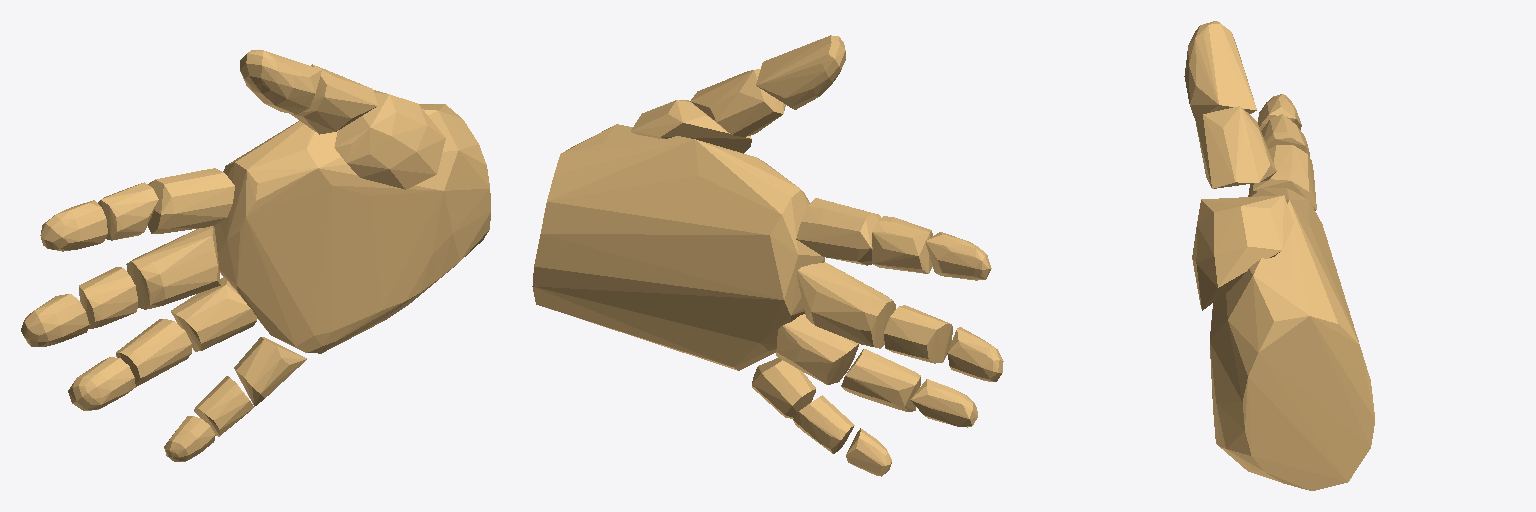
--- What the picture shows (computed from the rendered views, not written in the file) ---
3 views of the same robot in one strip: view 1: azimuth 30°, elevation 25°; view 2: azimuth 150°, elevation 25°; view 3: azimuth 270°, elevation 25° (orthographic).
Robot: rhand_mano — 63 links, 62 joints (48 revolute, 3 prismatic, 11 fixed); root link world; default pose: all joints at 0 but 2 set to mid-range because 0 is outside their limits (right_ring2_x = -0.345, right_ring3_x = -0.23).
Links seen in each view (by area): view 1: right_wrist_rz, right_thumb1_z, right_middle1_z, right_index1_z, right_thumb3_z, right_ring1_z, right_thumb2_z, right_ring2_z, right_pinky1_z, right_middle2_z, right_middle3_z, right_index3_z (+4 smaller); view 2: right_wrist_rz, right_middle1_z, right_thumb3_z, right_index1_z, right_thumb2_z, right_ring1_z, right_ring2_z, right_thumb1_z, right_middle2_z, right_index2_z, right_pinky1_z, right_index3_z (+4 smaller); view 3: right_wrist_rz, right_thumb1_z, right_thumb2_z, right_thumb3_z, right_index1_z, right_index2_z, right_index3_z.
Boxes of the visible links, bbox=[...] form: right_wrist_rz: bbox=[214, 104, 490, 353]; right_thumb1_z: bbox=[334, 90, 445, 189]; right_middle1_z: bbox=[126, 226, 220, 309]; right_index1_z: bbox=[148, 168, 234, 233]; right_thumb3_z: bbox=[240, 50, 321, 114]; right_ring1_z: bbox=[171, 277, 256, 351]; right_thumb2_z: bbox=[289, 64, 377, 134]; right_ring2_z: bbox=[116, 319, 191, 386]; right_pinky1_z: bbox=[234, 337, 306, 406]; right_middle2_z: bbox=[79, 267, 137, 328]; right_middle3_z: bbox=[21, 294, 89, 346]; right_index3_z: bbox=[40, 200, 107, 251]; right_wrist_rz: bbox=[532, 124, 824, 370]; right_middle1_z: bbox=[797, 262, 895, 348]; right_thumb3_z: bbox=[756, 35, 845, 109]; right_index1_z: bbox=[796, 198, 880, 265]; right_thumb2_z: bbox=[690, 69, 785, 136]; right_ring1_z: bbox=[776, 314, 858, 384]; right_ring2_z: bbox=[841, 349, 920, 411]; right_thumb1_z: bbox=[631, 100, 751, 153]; right_middle2_z: bbox=[884, 305, 952, 363]; right_index2_z: bbox=[872, 216, 932, 273]; right_pinky1_z: bbox=[752, 358, 815, 418]; right_index3_z: bbox=[925, 232, 991, 280]; right_wrist_rz: bbox=[1210, 188, 1374, 490]; right_thumb1_z: bbox=[1192, 195, 1293, 310]; right_thumb2_z: bbox=[1196, 106, 1276, 188]; right_thumb3_z: bbox=[1184, 21, 1256, 120]; right_index1_z: bbox=[1248, 145, 1316, 210]; right_index2_z: bbox=[1261, 114, 1309, 156]; right_index3_z: bbox=[1258, 94, 1301, 130].
Bounding box of the posed robot: 0.193 × 0.0613 × 0.1677 m (x, y, z).
16 mesh visuals loaded from 16 distinct referenced files (16 binary STL).

The robot description file, URDF, robot "rhand_mano":
<?xml version="1.0" ?>
<robot name="rhand_mano">
   <material name="hand_color">
      <color rgba="0.91796875 0.765 0.5234 1"/>
   </material>
   <link name="world"/>
   <joint name="world_to_base" type="fixed">
      <origin xyz="0 0 0"/>
      <axis xyz="0 0 0"/>
      <parent link="world"/>
      <child link="sliderBar"/>
   </joint>
   <link name="sliderBar">
      <inertial>
         <mass value="0"/>
         <inertia ixx="1" ixy="0" ixz="0" iyy="1" iyz="0" izz="1"/>
      </inertial>
   </link>
   <link name="right_wrist">
      <inertial>
         <origin rpy="0.0001382761617732207 0.0002243870504664796 0.0002987261918042579" xyz="-0.03428792862784619 -0.001983360201199018 4.859569785971209e-05"/>
  	 <mass value="0.0"/>
         <inertia ixx="0" ixy="0" ixz="0" iyy="0" iyz="0" izz="0"/>
      </inertial>
   </link>
   <link name="right_wrist_y">
      <inertial>
         <origin rpy="0 0 0" xyz="0 0 0"/>
         <mass value="0"/>
         <inertia ixx="0" ixy="0" ixz="0" iyy="0" iyz="0" izz="0"/>
      </inertial>
   </link>
   <link name="right_wrist_z">
      <inertial>
         <origin rpy="0 0 0" xyz="0 0 0"/>
         <mass value="0"/>
         <inertia ixx="0" ixy="0" ixz="0" iyy="0" iyz="0" izz="0"/>
      </inertial>
   </link>
   <link name="right_wrist_rx">
      <inertial>
         <origin rpy="0 0 0" xyz="0 0 0"/>
         <mass value="0"/>
         <inertia ixx="0" ixy="0" ixz="0" iyy="0" iyz="0" izz="0"/>
      </inertial>
   </link>
   <link name="right_wrist_ry">
      <inertial>
         <origin rpy="0 0 0" xyz="0 0 0"/>
         <mass value="0"/>
         <inertia ixx="0" ixy="0" ixz="0" iyy="0" iyz="0" izz="0"/>
      </inertial>
   </link>
   <link name="right_wrist_rz">
      <inertial>
         <origin rpy="0 0 0" xyz="0 0 0"/>
         <mass value="0"/>
         <inertia ixx="0" ixy="0" ixz="0" iyy="0" iyz="0" izz="0"/>
      </inertial>
      <visual>
         <origin rpy="0 0 0" xyz="-0.0956699401140213 -0.006383428350090981 -0.006186304613947868"/>
         <geometry>
            <mesh filename="./meshes/right_wrist.stl" scale="1 1 1"/>
         </geometry>
         <material name="hand_color"/>
      </visual>
      <collision>
         <origin rpy="0.006844884579535027 -0.1419415805103208 0.09621061312114154" xyz="-0.03922105953097343 -0.003785171080380678 -0.0006308349594473838"/>
         <material name="">
            <contact name="finger"/>
         </material>
         <geometry>
            <box size="0.0878 0.027 0.07000000000000001"/>
         </geometry>
      </collision>
      <collision>
         <origin rpy="0.541405353260723 -0.6746053143028581 -0.1940404583427586" xyz="-0.0144538301974535 -0.009313400834798813 0.01548770722001791"/>
         <material name="">
            <contact name="finger"/>
         </material>
         <geometry>
            <capsule length="0.0235689027607441" radius="0.015"/>
         </geometry>
      </collision>
   </link>
   <joint name="right_wrist_0x" type="prismatic">
      <origin xyz="0 0 0"/>
      <axis xyz="1 0 0"/>
      <parent link="sliderBar"/>
      <child link="right_wrist"/>
      <dynamics damping="10.0" friction="0.0001"/>
      <limit effort="100" velocity="200" lower="-0.8" upper="0.8"/>
   </joint>
   <joint name="right_wrist_0y" type="prismatic">
      <origin xyz="0 0 0"/>
      <axis xyz="0 1 0"/>
      <parent link="right_wrist"/>
      <child link="right_wrist_y"/>
      <dynamics damping="10.0" friction="0.0001"/>
      <limit effort="100" velocity="200" lower="-0.8" upper="0.8"/>
   </joint>
   <joint name="right_wrist_0z" type="prismatic">
      <origin xyz="0 0 0"/>
      <axis xyz="0 0 1"/>
      <parent link="right_wrist_y"/>
      <child link="right_wrist_z"/>
      <dynamics damping="10.0" friction="0.0001"/>
      <limit effort="100" velocity="200" lower="-0.8" upper="0.8"/>
   </joint>
   <joint name="right_wrist_0rx" type="revolute">
      <origin xyz="0 0 0"/>
      <axis xyz="1 0 0"/>
      <parent link="right_wrist_z"/>
      <child link="right_wrist_rx"/>
      <dynamics damping="1.0" friction="0.0001"/>
      <limit effort="1000" velocity="200" lower="-6.28" upper="6.28"/>
   </joint>
   <joint name="right_wrist_0ry" type="revolute">
      <origin xyz="0 0 0"/>
      <axis xyz="0 1 0"/>
      <parent link="right_wrist_rx"/>
      <child link="right_wrist_ry"/>
      <dynamics damping="1.0" friction="0.0001"/>
      <limit effort="1000" velocity="200" lower="-6.28" upper="6.28"/>
   </joint>
   <joint name="right_wrist_0rz" type="revolute">
      <origin xyz="0 0 0"/>
      <axis xyz="0 0 1"/>
      <parent link="right_wrist_ry"/>
      <child link="right_wrist_rz"/>
      <dynamics damping="1.0" friction="0.0001"/>
      <limit effort="1000" velocity="200" lower="-6.28" upper="6.28"/>
   </joint>
   <link name="right_index_fixed">
      <inertial>
         <origin rpy="0 0 0" xyz="0 0 0"/>
         <mass value="0"/>
         <inertia ixx="0" ixy="0" ixz="0" iyy="0" iyz="0" izz="0"/>
      </inertial>
   </link>
   <joint name="right_index1_fixed" type="fixed">
      <origin xyz="0 0 0"/>
      <axis xyz="0 0 0"/>
      <parent link="right_wrist_rz"/>
      <child link="right_index_fixed"/>
   </joint>
   <link name="right_index1">
      <inertial>
         <origin rpy="4.40063488240054e-07 8.009090468789044e-07 8.33438419100694e-07" xyz="-0.01841049225853478 0.003372971502468173 0.001485845999724966"/>
         <mass value="0.008858013426270924"/>
         <inertia ixx="4.441778858945276e-07" ixy="2.33849326666686e-08" ixz="-3.18170695566891e-08" iyy="7.994890796984332e-07" iyz="1.643036507892791e-10" izz="8.307439886266915e-07"/>
      </inertial>
   </link>
   <link name="right_index1_y">
      <inertial>
         <origin rpy="0 0 0" xyz="0 0 0"/>
         <mass value="0"/>
         <inertia ixx="0" ixy="0" ixz="0" iyy="0" iyz="0" izz="0"/>
      </inertial>
   </link>
   <link name="right_index1_z">
      <inertial>
         <origin rpy="0 0 0" xyz="0 0 0"/>
         <mass value="0"/>
         <inertia ixx="0" ixy="0" ixz="0" iyy="0" iyz="0" izz="0"/>
      </inertial>
      <visual>
         <origin rpy="0 0 0" xyz="-0.007572680711746216 -0.0011830716393888 -0.0268722977489233"/>
         <geometry>
            <mesh filename="./meshes/right_index1.stl" scale="1 1 1"/>
         </geometry>
         <material name="hand_color"/>
      </visual>
      <collision>
         <origin rpy="-1.065673404150012 -1.431506141451089 0.9477048864768798" xyz="-0.0118830343708396 0.001457922742702067 0.0008061919361352921"/>
         <material name="">
            <contact name="finger"/>
         </material>
         <geometry>
            <capsule length="0.02399849852919578" radius="0.008999999999999999"/>
         </geometry>
      </collision>
   </link>
   <joint name="right_index1_x" type="revolute">
      <origin xyz="-0.08809725940227509 -0.005200356710702181 0.02068599313497543"/>
      <axis xyz="1 0 0"/>
      <parent link="right_index_fixed"/>
      <child link="right_index1"/>
      <dynamics damping="1.0" friction="0.0001"/>
      <limit effort="1000" velocity="200" lower="-0.14" upper="0.46"/>
   </joint>
   <joint name="right_index1_y" type="revolute">
      <origin xyz="0 0 0"/>
      <axis xyz="0 1 0"/>
      <parent link="right_index1"/>
      <child link="right_index1_y"/>
      <dynamics damping="1.0" friction="0.0001"/>
      <limit effort="1000" velocity="200" lower="-0.61" upper="0.32"/>
   </joint>
   <joint name="right_index1_z" type="revolute">
      <origin xyz="0 0 0"/>
      <axis xyz="0 0 1"/>
      <parent link="right_index1_y"/>
      <child link="right_index1_z"/>
      <dynamics damping="1.0" friction="0.0001"/>
      <limit effort="1000" velocity="200" lower="-0.38" upper="1.25"/>
   </joint>
   <link name="right_index2">
      <inertial>
         <origin rpy="1.510899987947861e-07 2.052806130641707e-07 2.260681513546246e-07" xyz="-0.0112130878785661 -0.0001671420303115973 2.323359852935206e-05"/>
         <mass value="0.004299645893867725"/>
         <inertia ixx="1.542203558958309e-07" ixy="-8.907325254730415e-09" ixz="-1.088989905119781e-08" iyy="2.236098862551748e-07" iyz="3.828831971148394e-09" izz="2.046085210625759e-07"/>
      </inertial>
   </link>
   <link name="right_index2_y">
      <inertial>
         <origin rpy="0 0 0" xyz="0 0 0"/>
         <mass value="0"/>
         <inertia ixx="0" ixy="0" ixz="0" iyy="0" iyz="0" izz="0"/>
      </inertial>
   </link>
   <link name="right_index2_z">
      <inertial>
         <origin rpy="0 0 0" xyz="0 0 0"/>
         <mass value="0"/>
         <inertia ixx="0" ixy="0" ixz="0" iyy="0" iyz="0" izz="0"/>
      </inertial>
      <visual>
         <origin rpy="0 0 0" xyz="0.02510622143745422 -0.005192427430301905 -0.02908936329185963"/>
         <geometry>
            <mesh filename="./meshes/right_index2.stl" scale="1 1 1"/>
         </geometry>
         <material name="hand_color"/>
      </visual>
      <collision>
         <origin rpy="1.658461261310608 -1.512034214827133 -1.5997737489094" xyz="-0.007334427908062935 -0.0004298262647353113 -3.777751408051699e-05"/>
         <material name="">
            <contact name="finger"/>
         </material>
         <geometry>
            <capsule length="0.01469421602785587" radius="0.0075"/>
         </geometry>
      </collision>
   </link>
   <joint name="right_index2_x" type="revolute">
      <origin xyz="-0.03267890214920044 0.004009355790913105 0.002217065542936325"/>
      <axis xyz="1 0 0"/>
      <parent link="right_index1_z"/>
      <child link="right_index2"/>
      <dynamics damping="1.0" friction="0.0001"/>
      <limit effort="1000" velocity="200" lower="-0.43" upper="0.58"/>
   </joint>
   <joint name="right_index2_y" type="revolute">
      <origin xyz="0 0 0"/>
      <axis xyz="0 1 0"/>
      <parent link="right_index2"/>
      <child link="right_index2_y"/>
      <dynamics damping="1.0" friction="0.0001"/>
      <limit effort="1000" velocity="200" lower="-0.26" upper="0.21"/>
   </joint>
   <joint name="right_index2_z" type="revolute">
      <origin xyz="0 0 0"/>
      <axis xyz="0 0 1"/>
      <parent link="right_index2_y"/>
      <child link="right_index2_z"/>
      <dynamics damping="1.0" friction="0.0001"/>
      <limit effort="1000" velocity="200" lower="-0.14" upper="1.3"/>
   </joint>
   <link name="right_index3">
      <inertial>
         <origin rpy="7.390473353246301e-08 1.425425783253728e-07 1.58585936150065e-07" xyz="-0.01113279506587959 -0.0005018619283154242 -0.0001430962173195431"/>
         <mass value="0.003095705087766235"/>
         <inertia ixx="7.464031657849734e-08" ixy="1.575984661878876e-09" ixz="-7.061194366437685e-09" iyy="1.572361421002517e-07" iyz="-4.29298608964218e-09" izz="1.431567893291516e-07"/>
      </inertial>
   </link>
   <link name="right_index3_y">
      <inertial>
         <origin rpy="0 0 0" xyz="0 0 0"/>
         <mass value="0"/>
         <inertia ixx="0" ixy="0" ixz="0" iyy="0" iyz="0" izz="0"/>
      </inertial>
   </link>
   <link name="right_index3_z">
      <inertial>
         <origin rpy="0 0 0" xyz="0 0 0"/>
         <mass value="0"/>
         <inertia ixx="0" ixy="0" ixz="0" iyy="0" iyz="0" izz="0"/>
      </inertial>
      <visual>
         <origin rpy="0 0 0" xyz="0.04726213216781616 -0.003894004039466381 -0.02897524461150169"/>
         <geometry>
            <mesh filename="./meshes/right_index3.stl" scale="1 1 1"/>
         </geometry>
         <material name="hand_color"/>
      </visual>
      <collision>
         <origin rpy="1.840193960081717 -1.497003187126881 -1.76835496522512" xyz="-0.009001294411288496 -0.0006414405166041191 -0.0001771079735335346"/>
         <material name="">
            <contact name="finger"/>
         </material>
         <geometry>
            <capsule length="0.0180517161787265" radius="0.0075"/>
         </geometry>
      </collision>
   </link>
   <joint name="right_index3_x" type="revolute">
      <origin xyz="-0.02215591073036194 -0.001298423390835524 -0.000114118680357933"/>
      <axis xyz="1 0 0"/>
      <parent link="right_index2_z"/>
      <child link="right_index3"/>
      <dynamics damping="1.0" friction="0.0001"/>
      <limit effort="1000" velocity="200" lower="-0.39" upper="0.43"/>
   </joint>
   <joint name="right_index3_y" type="revolute">
      <origin xyz="0 0 0"/>
      <axis xyz="0 1 0"/>
      <parent link="right_index3"/>
      <child link="right_index3_y"/>
      <dynamics damping="1.0" friction="0.0001"/>
      <limit effort="1000" velocity="200" lower="-0.17" upper="0.35"/>
   </joint>
   <joint name="right_index3_z" type="revolute">
      <origin xyz="0 0 0"/>
      <axis xyz="0 0 1"/>
      <parent link="right_index3_y"/>
      <child link="right_index3_z"/>
      <dynamics damping="1.0" friction="0.0001"/>
      <limit effort="1000" velocity="200" lower="-0.25" upper="1.15"/>
   </joint>
   <link name="right_index_tip">
      <inertial>
         <origin rpy="0 0 0" xyz="0 0 0"/>
         <mass value="0"/>
         <inertia ixx="0" ixy="0" ixz="0" iyy="0" iyz="0" izz="0"/>
      </inertial>
   </link>
   <joint name="right_index_tip" type="fixed">
      <origin xyz="-0.025482177734375 0.001184116583317518 -0.0005013830959796906"/>
      <axis xyz="0 0 0"/>
      <parent link="right_index3_z"/>
      <child link="right_index_tip"/>
   </joint>
   <link name="right_middle_fixed">
      <inertial>
         <origin rpy="0 0 0" xyz="0 0 0"/>
         <mass value="0"/>
         <inertia ixx="0" ixy="0" ixz="0" iyy="0" iyz="0" izz="0"/>
      </inertial>
   </link>
   <joint name="right_middle1_fixed" type="fixed">
      <origin xyz="0 0 0"/>
      <axis xyz="0 0 0"/>
      <parent link="right_wrist_rz"/>
      <child link="right_middle_fixed"/>
   </joint>
   <link name="right_middle1">
      <inertial>
         <origin rpy="5.347692323135398e-07 1.157950269961845e-06 1.20312842324104e-06" xyz="-0.01404093428370029 0.002369654630678607 -0.002975534943670234"/>
         <mass value="0.01041232271134444"/>
         <inertia ixx="5.691079252468613e-07" ixy="5.156376283079277e-10" ixz="-1.424316691619549e-07" iyy="1.201105062575942e-06" iyz="-9.47773545413763e-09" izz="1.125634937693622e-06"/>
      </inertial>
   </link>
   <link name="right_middle1_y">
      <inertial>
         <origin rpy="0 0 0" xyz="0 0 0"/>
         <mass value="0"/>
         <inertia ixx="0" ixy="0" ixz="0" iyy="0" iyz="0" izz="0"/>
      </inertial>
   </link>
   <link name="right_middle1_z">
      <inertial>
         <origin rpy="0 0 0" xyz="0 0 0"/>
         <mass value="0"/>
         <inertia ixx="0" ixy="0" ixz="0" iyy="0" iyz="0" izz="0"/>
      </inertial>
      <visual>
         <origin rpy="0 0 0" xyz="-0.001009486615657806 -0.00490446574985981 -0.002828764962032437"/>
         <geometry>
            <mesh filename="./meshes/right_middle1.stl" scale="1 1 1"/>
         </geometry>
         <material name="hand_color"/>
      </visual>
      <collision>
         <origin rpy="-2.820406600974239 -1.383922349862802 2.755488033918114" xyz="-0.0111696794629097 0.0006667306879535317 -0.002003961941227317"/>
         <material name="">
            <contact name="finger"/>
         </material>
         <geometry>
            <capsule length="0.02273518180847168" radius="0.008999999999999999"/>
         </geometry>
      </collision>
   </link>
   <joint name="right_middle1_x" type="revolute">
      <origin xyz="-0.09466045349836349 -0.001478962600231171 -0.003357539651915431"/>
      <axis xyz="1 0 0"/>
      <parent link="right_middle_fixed"/>
      <child link="right_middle1"/>
      <dynamics damping="1.0" friction="0.0001"/>
      <limit effort="1000" velocity="200" lower="-0.5" upper="0.42"/>
   </joint>
   <joint name="right_middle1_y" type="revolute">
      <origin xyz="0 0 0"/>
      <axis xyz="0 1 0"/>
      <parent link="right_middle1"/>
      <child link="right_middle1_y"/>
      <dynamics damping="1.0" friction="0.0001"/>
      <limit effort="1000" velocity="200" lower="-0.61" upper="0.21"/>
   </joint>
   <joint name="right_middle1_z" type="revolute">
      <origin xyz="0 0 0"/>
      <axis xyz="0 0 1"/>
      <parent link="right_middle1_y"/>
      <child link="right_middle1_z"/>
      <dynamics damping="1.0" friction="0.0001"/>
      <limit effort="1000" velocity="200" lower="-0.49" upper="1.44"/>
   </joint>
   <link name="right_middle2">
      <inertial>
         <origin rpy="1.438040233926373e-07 1.926044512116666e-07 2.071828806124508e-07" xyz="-0.01308363736227514 -0.0002096533445448924 -0.002215308889885086"/>
         <mass value="0.004134916987366405"/>
         <inertia ixx="1.495346703662589e-07" ixy="-1.473680795106371e-08" ixz="-8.546669747643379e-09" iyy="2.028406094796937e-07" iyz="-5.092232749750542e-09" izz="1.912160753708021e-07"/>
      </inertial>
   </link>
   <link name="right_middle2_y">
      <inertial>
         <origin rpy="0 0 0" xyz="0 0 0"/>
         <mass value="0"/>
         <inertia ixx="0" ixy="0" ixz="0" iyy="0" iyz="0" izz="0"/>
      </inertial>
   </link>
   <link name="right_middle2_z">
      <inertial>
         <origin rpy="0 0 0" xyz="0 0 0"/>
         <mass value="0"/>
         <inertia ixx="0" ixy="0" ixz="0" iyy="0" iyz="0" izz="0"/>
      </inertial>
      <visual>
         <origin rpy="0 0 0" xyz="0.03017318062484264 -0.006765794008970261 0.002765744691714644"/>
         <geometry>
            <mesh filename="./meshes/right_middle2.stl" scale="1 1 1"/>
         </geometry>
         <material name="hand_color"/>
      </visual>
      <collision>
         <origin rpy="2.834223256819131 -1.392042172086062 -2.77494923392455" xyz="-0.007762070745229721 -0.0004243212752044201 -0.00133674219250679"/>
         <material name="">
            <contact name="finger"/>
         </material>
         <geometry>
            <capsule length="0.01577550947666168" radius="0.0075"/>
         </geometry>
      </collision>
   </link>
   <joint name="right_middle2_x" type="revolute">
      <origin xyz="-0.03118266724050045 0.001861328259110451 -0.005594509653747082"/>
      <axis xyz="1 0 0"/>
      <parent link="right_middle1_z"/>
      <child link="right_middle2"/>
      <dynamics damping="1.0" friction="0.0001"/>
      <limit effort="1000" velocity="200" lower="-0.47" upper="0.02"/>
   </joint>
   <joint name="right_middle2_y" type="revolute">
      <origin xyz="0 0 0"/>
      <axis xyz="0 1 0"/>
      <parent link="right_middle2"/>
      <child link="right_middle2_y"/>
      <dynamics damping="1.0" friction="0.0001"/>
      <limit effort="1000" velocity="200" lower="-0.29" upper="0.05"/>
   </joint>
   <joint name="right_middle2_z" type="revolute">
      <origin xyz="0 0 0"/>
      <axis xyz="0 0 1"/>
      <parent link="right_middle2_y"/>
      <child link="right_middle2_z"/>
      <dynamics damping="1.0" friction="0.0001"/>
      <limit effort="1000" velocity="200" lower="-0.45" upper="1.33"/>
   </joint>
   <link name="right_middle3">
      <inertial>
         <origin rpy="7.547806408530193e-08 1.27401553612779e-07 1.389691917127175e-07" xyz="-0.01341204096573574 -0.0001321703788337673 -0.002081687520704607"/>
         <mass value="0.003016592369827251"/>
         <inertia ixx="7.966680664410979e-08" ixy="8.157506841560311e-09" ixz="-1.255883708825473e-08" iyy="1.371344583955573e-07" iyz="-1.105336821754682e-09" izz="1.250475443711313e-07"/>
      </inertial>
   </link>
   <link name="right_middle3_y">
      <inertial>
         <origin rpy="0 0 0" xyz="0 0 0"/>
         <mass value="0"/>
         <inertia ixx="0" ixy="0" ixz="0" iyy="0" iyz="0" izz="0"/>
      </inertial>
   </link>
   <link name="right_middle3_z">
      <inertial>
         <origin rpy="0 0 0" xyz="0 0 0"/>
         <mass value="0"/>
         <inertia ixx="0" ixy="0" ixz="0" iyy="0" iyz="0" izz="0"/>
      </inertial>
      <visual>
         <origin rpy="0 0 0" xyz="0.0530778169631958 -0.005513689480721951 0.006710258312523365"/>
         <geometry>
            <mesh filename="./meshes/right_middle3.stl" scale="1 1 1"/>
         </geometry>
         <material name="hand_color"/>
      </visual>
      <collision>
         <origin rpy="-2.939644762229884 -1.407919909220686 2.904061101940813" xyz="-0.009145713945442134 0.0003014557215035537 -0.001472391958602528"/>
         <material name="">
            <contact name="finger"/>
         </material>
         <geometry>
            <capsule length="0.01853676316983516" radius="0.0075"/>
         </geometry>
      </collision>
   </link>
   <joint name="right_middle3_x" type="revolute">
      <origin xyz="-0.02290463633835316 -0.00125210452824831 -0.003944513387978077"/>
      <axis xyz="1 0 0"/>
      <parent link="right_middle2_z"/>
      <child link="right_middle3"/>
      <dynamics damping="1.0" friction="0.0001"/>
      <limit effort="1000" velocity="200" lower="-0.38" upper="0"/>
   </joint>
   <joint name="right_middle3_y" type="revolute">
      <origin xyz="0 0 0"/>
      <axis xyz="0 1 0"/>
      <parent link="right_middle3"/>
      <child link="right_middle3_y"/>
      <dynamics damping="1.0" friction="0.0001"/>
      <limit effort="1000" velocity="200" lower="-0.14" upper="0.22"/>
   </joint>
   <joint name="right_middle3_z" type="revolute">
      <origin xyz="0 0 0"/>
      <axis xyz="0 0 1"/>
      <parent link="right_middle3_y"/>
      <child link="right_middle3_z"/>
      <dynamics damping="1.0" friction="0.0001"/>
      <limit effort="1000" velocity="200" lower="-0.35" upper="0.88"/>
   </joint>
   <link name="right_middle_tip">
      <inertial>
         <origin rpy="0 0 0" xyz="0 0 0"/>
         <mass value="0"/>
         <inertia ixx="0" ixy="0" ixz="0" iyy="0" iyz="0" izz="0"/>
      </inertial>
   </link>
   <joint name="right_middle_tip" type="fixed">
      <origin xyz="-0.0256921648979187 0.003846850246191025 -0.004136247560381889"/>
      <axis xyz="0 0 0"/>
      <parent link="right_middle3_z"/>
      <child link="right_middle_tip"/>
   </joint>
   <link name="right_pinky_fixed">
      <inertial>
         <origin rpy="0 0 0" xyz="0 0 0"/>
         <mass value="0"/>
         <inertia ixx="0" ixy="0" ixz="0" iyy="0" iyz="0" izz="0"/>
      </inertial>
   </link>
   <joint name="right_pinky1_fixed" type="fixed">
      <origin xyz="0 0 0"/>
      <axis xyz="0 0 0"/>
      <parent link="right_wrist_rz"/>
      <child link="right_pinky_fixed"/>
   </joint>
   <link name="right_pinky1">
      <inertial>
         <origin rpy="1.48827225313433e-07 2.133354782353497e-07 2.245894759057712e-07" xyz="-0.007298340700857824 0.001209671288326417 -0.007077038184132051"/>
         <mass value="0.00429689371005088"/>
         <inertia ixx="1.681797734422877e-07" ixy="-8.006221661156753e-10" ixz="-2.956527084550618e-08" iyy="2.244614664283673e-07" iyz="-1.741624467465072e-09" izz="1.941109395838989e-07"/>
      </inertial>
   </link>
   <link name="right_pinky1_y">
      <inertial>
         <origin rpy="0 0 0" xyz="0 0 0"/>
         <mass value="0"/>
         <inertia ixx="0" ixy="0" ixz="0" iyy="0" iyz="0" izz="0"/>
      </inertial>
   </link>
   <link name="right_pinky1_z">
      <inertial>
         <origin rpy="0 0 0" xyz="0 0 0"/>
         <mass value="0"/>
         <inertia ixx="0" ixy="0" ixz="0" iyy="0" iyz="0" izz="0"/>
      </inertial>
      <visual>
         <origin rpy="0 0 0" xyz="-0.02688296139240265 0.003556899726390839 0.03702303022146225"/>
         <geometry>
            <mesh filename="./meshes/right_pinky1.stl" scale="1 1 1"/>
         </geometry>
         <material name="hand_color"/>
      </visual>
      <collision>
         <origin rpy="-3.13664619965706 -0.9372186196136476 3.131821312881724" xyz="-0.004880589433014393 1.773456642695237e-05 -0.003585279919207096"/>
         <material name="">
            <contact name="finger"/>
         </material>
         <geometry>
            <capsule length="0.01211192792654038" radius="0.008999999999999999"/>
         </geometry>
      </collision>
   </link>
   <joint name="right_pinky1_x" type="revolute">
      <origin xyz="-0.06878697872161865 -0.009940328076481819 -0.04320933669805527"/>
      <axis xyz="1 0 0"/>
      <parent link="right_pinky_fixed"/>
      <child link="right_pinky1"/>
      <dynamics damping="1.0" friction="0.0001"/>
      <limit effort="1000" velocity="200" lower="-1.31" upper="0.42"/>
   </joint>
   <joint name="right_pinky1_y" type="revolute">
      <origin xyz="0 0 0"/>
      <axis xyz="0 1 0"/>
      <parent link="right_pinky1"/>
      <child link="right_pinky1_y"/>
      <dynamics damping="1.0" friction="0.0001"/>
      <limit effort="1000" velocity="200" lower="-0.63" upper="0.62"/>
   </joint>
   <joint name="right_pinky1_z" type="revolute">
      <origin xyz="0 0 0"/>
      <axis xyz="0 0 1"/>
      <parent link="right_pinky1_y"/>
      <child link="right_pinky1_z"/>
      <dynamics damping="1.0" friction="0.0001"/>
      <limit effort="1000" velocity="200" lower="-0.06" upper="1.65"/>
   </joint>
   <link name="right_pinky2">
      <inertial>
         <origin rpy="7.14610295422411e-08 1.037878021848514e-07 1.10336443686092e-07" xyz="-0.007860466243023591 0.001082534402904419 -0.006184610881384799"/>
         <mass value="0.002781613790564921"/>
         <inertia ixx="8.10232289354825e-08" ixy="-1.827691227174668e-09" ixz="-1.49144378232804e-08" iyy="1.084056993496749e-07" iyz="-4.39051464243735e-09" izz="9.615634712802696e-08"/>
      </inertial>
   </link>
   <link name="right_pinky2_y">
      <inertial>
         <origin rpy="0 0 0" xyz="0 0 0"/>
         <mass value="0"/>
         <inertia ixx="0" ixy="0" ixz="0" iyy="0" iyz="0" izz="0"/>
      </inertial>
   </link>
   <link name="right_pinky2_z">
      <inertial>
         <origin rpy="0 0 0" xyz="0 0 0"/>
         <mass value="0"/>
         <inertia ixx="0" ixy="0" ixz="0" iyy="0" iyz="0" izz="0"/>
      </inertial>
      <visual>
         <origin rpy="0 0 0" xyz="-0.009868551045656204 0.003495074575766921 0.04952181130647659"/>
         <geometry>
            <mesh filename="./meshes/right_pinky2.stl" scale="1 1 1"/>
         </geometry>
         <material name="hand_color"/>
      </visual>
      <collision>
         <origin rpy="3.074796837859433 -0.9925842493150498 -3.018349175930415" xyz="-0.004793046973645687 -0.0002087832690449432 -0.003121043555438519"/>
         <material name="">
            <contact name="finger"/>
         </material>
         <geometry>
            <capsule length="0.01144688606262207" radius="0.0075"/>
         </geometry>
      </collision>
   </link>
   <joint name="right_pinky2_x" type="revolute">
      <origin xyz="-0.01701441034674644 6.182515062391758e-05 -0.01249878108501434"/>
      <axis xyz="1 0 0"/>
      <parent link="right_pinky1_z"/>
      <child link="right_pinky2"/>
      <dynamics damping="1.0" friction="0.0001"/>
      <limit effort="1000" velocity="200" lower="-1.11" upper="0.98"/>
   </joint>
   <joint name="right_pinky2_y" type="revolute">
      <origin xyz="0 0 0"/>
      <axis xyz="0 1 0"/>
      <parent link="right_pinky2"/>
      <child link="right_pinky2_y"/>
      <dynamics damping="1.0" friction="0.0001"/>
      <limit effort="1000" velocity="200" lower="-0.42" upper="0.61"/>
   </joint>
   <joint name="right_pinky2_z" type="revolute">
      <origin xyz="0 0 0"/>
      <axis xyz="0 0 1"/>
      <parent link="right_pinky2_y"/>
      <child link="right_pinky2_z"/>
      <dynamics damping="1.0" friction="0.0001"/>
      <limit effort="1000" velocity="200" lower="-0.37" upper="1.29"/>
   </joint>
   <link name="right_pinky3">
      <inertial>
         <origin rpy="2.618440686979082e-08 4.120993065930541e-08 4.44370725354283e-08" xyz="-0.008810483659855921 -0.0009578335233779781 -0.005027785409461583"/>
         <mass value="0.001566057855040921"/>
         <inertia ixx="2.960281534014635e-08" ixy="2.583004582544436e-11" ixz="-6.313325860791448e-09" iyy="4.43738299343363e-08" iyz="-4.851731346720774e-10" izz="3.785476479004187e-08"/>
      </inertial>
   </link>
   <link name="right_pinky3_y">
      <inertial>
         <origin rpy="0 0 0" xyz="0 0 0"/>
         <mass value="0"/>
         <inertia ixx="0" ixy="0" ixz="0" iyy="0" iyz="0" izz="0"/>
      </inertial>
   </link>
   <link name="right_pinky3_z">
      <inertial>
         <origin rpy="0 0 0" xyz="0 0 0"/>
         <mass value="0"/>
         <inertia ixx="0" ixy="0" ixz="0" iyy="0" iyz="0" izz="0"/>
      </inertial>
      <visual>
         <origin rpy="0 0 0" xyz="0.00599835067987442 0.004186230711638927 0.05985371395945549"/>
         <geometry>
            <mesh filename="./meshes/right_pinky3.stl" scale="1 1 1"/>
         </geometry>
         <material name="hand_color"/>
      </visual>
      <collision>
         <origin rpy="3.001814974863856 -1.023483359517321 -2.893594779193235" xyz="-0.005771451704418715 -0.0004900273787599806 -0.00348290132177909"/>
         <material name="">
            <contact name="finger"/>
         </material>
         <geometry>
            <capsule length="0.01351745289995458" radius="0.0065"/>
         </geometry>
      </collision>
   </link>
   <joint name="right_pinky3_x" type="revolute">
      <origin xyz="-0.01586690172553062 -0.0006911561358720064 -0.0103319026529789"/>
      <axis xyz="1 0 0"/>
      <parent link="right_pinky2_z"/>
      <child link="right_pinky3"/>
      <dynamics damping="1.0" friction="0.0001"/>
      <limit effort="1000" velocity="200" lower="-1.16" upper="0.46"/>
   </joint>
   <joint name="right_pinky3_y" type="revolute">
      <origin xyz="0 0 0"/>
      <axis xyz="0 1 0"/>
      <parent link="right_pinky3"/>
      <child link="right_pinky3_y"/>
      <dynamics damping="1.0" friction="0.0001"/>
      <limit effort="1000" velocity="200" lower="-0.25" upper="0.51"/>
   </joint>
   <joint name="right_pinky3_z" type="revolute">
      <origin xyz="0 0 0"/>
      <axis xyz="0 0 1"/>
      <parent link="right_pinky3_y"/>
      <child link="right_pinky3_z"/>
      <dynamics damping="1.0" friction="0.0001"/>
      <limit effort="1000" velocity="200" lower="-1.06" upper="0.46"/>
   </joint>
   <link name="right_pinky_tip">
      <inertial>
         <origin rpy="0 0 0" xyz="0 0 0"/>
         <mass value="0"/>
         <inertia ixx="0" ixy="0" ixz="0" iyy="0" iyz="0" izz="0"/>
      </inertial>
   </link>
   <joint name="right_pinky_tip" type="fixed">
      <origin xyz="-0.01709342189133167 0.001548676285892725 -0.01031537726521492"/>
      <axis xyz="0 0 0"/>
      <parent link="right_pinky3_z"/>
      <child link="right_pinky_tip"/>
   </joint>
   <link name="right_ring_fixed">
      <inertial>
         <origin rpy="0 0 0" xyz="0 0 0"/>
         <mass value="0"/>
         <inertia ixx="0" ixy="0" ixz="0" iyy="0" iyz="0" izz="0"/>
      </inertial>
   </link>
   <joint name="right_ring1_fixed" type="fixed">
      <origin xyz="0 0 0"/>
      <axis xyz="0 0 0"/>
      <parent link="right_wrist_rz"/>
      <child link="right_ring_fixed"/>
   </joint>
   <link name="right_ring1">
      <inertial>
         <origin rpy="3.614178026726328e-07 5.755817865960011e-07 5.948303545159801e-07" xyz="-0.01229362562996941 0.002478270156332958 -0.0006989646432877111"/>
         <mass value="0.007566219384225672"/>
         <inertia ixx="3.725577298656618e-07" ixy="-5.569118446057833e-09" ixz="-4.869270235624241e-08" iyy="5.796986474490755e-07" iyz="-9.515256953178793e-09" izz="5.795735664698766e-07"/>
      </inertial>
   </link>
   <link name="right_ring1_y">
      <inertial>
         <origin rpy="0 0 0" xyz="0 0 0"/>
         <mass value="0"/>
         <inertia ixx="0" ixy="0" ixz="0" iyy="0" iyz="0" izz="0"/>
      </inertial>
   </link>
   <link name="right_ring1_z">
      <inertial>
         <origin rpy="0 0 0" xyz="0 0 0"/>
         <mass value="0"/>
         <inertia ixx="0" ixy="0" ixz="0" iyy="0" iyz="0" izz="0"/>
      </inertial>
      <visual>
         <origin rpy="0 0 0" xyz="-0.01393437385559082 -0.002426007762551308 0.02048688568174839"/>
         <geometry>
            <mesh filename="./meshes/right_ring1.stl" scale="1 1 1"/>
         </geometry>
         <material name="hand_color"/>
      </visual>
      <collision>
         <origin rpy="-2.756429740384719 -1.378882821128404 2.677062098469931" xyz="-0.009739752858877182 0.000711024331394583 -0.001753832912072539"/>
         <material name="">
            <contact name="finger"/>
         </material>
         <geometry>
            <capsule length="0.01984381636977196" radius="0.008999999999999999"/>
         </geometry>
      </collision>
   </link>
   <joint name="right_ring1_x" type="revolute">
      <origin xyz="-0.08173556625843048 -0.003957420587539673 -0.02667319029569626"/>
      <axis xyz="1 0 0"/>
      <parent link="right_ring_fixed"/>
      <child link="right_ring1"/>
      <dynamics damping="1.0" friction="0.0001"/>
      <limit effort="1000" velocity="200" lower="-0.45" upper="0.32"/>
   </joint>
   <joint name="right_ring1_y" type="revolute">
      <origin xyz="0 0 0"/>
      <axis xyz="0 1 0"/>
      <parent link="right_ring1"/>
      <child link="right_ring1_y"/>
      <dynamics damping="1.0" friction="0.0001"/>
      <limit effort="1000" velocity="200" lower="-0.44" upper="0.35"/>
   </joint>
   <joint name="right_ring1_z" type="revolute">
      <origin xyz="0 0 0"/>
      <axis xyz="0 0 1"/>
      <parent link="right_ring1_y"/>
      <child link="right_ring1_z"/>
      <dynamics damping="1.0" friction="0.0001"/>
      <limit effort="1000" velocity="200" lower="-0.28" upper="1.48"/>
   </joint>
   <link name="right_ring2">
      <inertial>
         <origin rpy="1.629027005874438e-07 3.416994576652997e-07 3.489683819768513e-07" xyz="-0.01120108747821226 -0.0003899902702547342 -0.004202645694517223"/>
         <mass value="0.005029987599785342"/>
         <inertia ixx="1.789927406775117e-07" ixy="-1.576526576054183e-08" ixz="-4.868308432861158e-08" iyy="3.470513046564063e-07" iyz="-6.36215768749042e-09" izz="3.275264948956767e-07"/>
      </inertial>
   </link>
   <link name="right_ring2_y">
      <inertial>
         <origin rpy="0 0 0" xyz="0 0 0"/>
         <mass value="0"/>
         <inertia ixx="0" ixy="0" ixz="0" iyy="0" iyz="0" izz="0"/>
      </inertial>
   </link>
   <link name="right_ring2_z">
      <inertial>
         <origin rpy="0 0 0" xyz="0 0 0"/>
         <mass value="0"/>
         <inertia ixx="0" ixy="0" ixz="0" iyy="0" iyz="0" izz="0"/>
      </inertial>
      <visual>
         <origin rpy="0 0 0" xyz="0.01437989994883537 -0.004493014886975288 0.02558542415499687"/>
         <geometry>
            <mesh filename="./meshes/right_ring2.stl" scale="1 1 1"/>
         </geometry>
         <material name="hand_color"/>
      </visual>
      <collision>
         <origin rpy="2.923959085930092 -1.249885231202113 -2.840996889674495" xyz="-0.008201702497899532 -0.0005886515136808157 -0.002661943435668945"/>
         <material name="">
            <contact name="finger"/>
         </material>
         <geometry>
            <capsule length="0.01728587441146374" radius="0.0075"/>
         </geometry>
      </collision>
   </link>
   <joint name="right_ring2_x" type="revolute">
      <origin xyz="-0.02831427380442619 0.002067007124423981 -0.005098538473248482"/>
      <axis xyz="1 0 0"/>
      <parent link="right_ring1_z"/>
      <child link="right_ring2"/>
      <dynamics damping="1.0" friction="0.0001"/>
      <limit effort="1000" velocity="200" lower="-0.58" upper="-0.11"/>
   </joint>
   <joint name="right_ring2_y" type="revolute">
      <origin xyz="0 0 0"/>
      <axis xyz="0 1 0"/>
      <parent link="right_ring2"/>
      <child link="right_ring2_y"/>
      <dynamics damping="1.0" friction="0.0001"/>
      <limit effort="1000" velocity="200" lower="-0.47" upper="0.3"/>
   </joint>
   <joint name="right_ring2_z" type="revolute">
      <origin xyz="0 0 0"/>
      <axis xyz="0 0 1"/>
      <parent link="right_ring2_y"/>
      <child link="right_ring2_z"/>
      <dynamics damping="1.0" friction="0.0001"/>
      <limit effort="1000" velocity="200" lower="-0.35" upper="1.46"/>
   </joint>
   <link name="right_ring3">
      <inertial>
         <origin rpy="6.339510042229199e-08 1.310915770487035e-07 1.399544841982382e-07" xyz="-0.01199416619961559 -8.532674859326739e-05 -0.003519108567331522"/>
         <mass value="0.00288134705822775"/>
         <inertia ixx="6.96075106575108e-08" ixy="3.500704841988125e-09" ixz="-1.945298534824255e-08" iyy="1.392429752399229e-07" iyz="-1.229084363579012e-09" izz="1.255906757718e-07"/>
      </inertial>
   </link>
   <link name="right_ring3_y">
      <inertial>
         <origin rpy="0 0 0" xyz="0 0 0"/>
         <mass value="0"/>
         <inertia ixx="0" ixy="0" ixz="0" iyy="0" iyz="0" izz="0"/>
      </inertial>
   </link>
   <link name="right_ring3_z">
      <inertial>
         <origin rpy="0 0 0" xyz="0 0 0"/>
         <mass value="0"/>
         <inertia ixx="0" ixy="0" ixz="0" iyy="0" iyz="0" izz="0"/>
      </inertial>
      <visual>
         <origin rpy="0 0 0" xyz="0.0379004180431366 -0.00280490331351757 0.03321924060583115"/>
         <geometry>
            <mesh filename="./meshes/right_ring3.stl" scale="1 1 1"/>
         </geometry>
         <material name="hand_color"/>
      </visual>
      <collision>
         <origin rpy="-3.025110379404621 -1.277093683239337 2.984813522576495" xyz="-0.008628424416764247 0.0003032926320860706 -0.002591979665581778"/>
         <material name="">
            <contact name="finger"/>
         </material>
         <geometry>
            <capsule length="0.01802887161452769" radius="0.0075"/>
         </geometry>
      </collision>
   </link>
   <joint name="right_ring3_x" type="revolute">
      <origin xyz="-0.02352051809430122 -0.001688111573457718 -0.007633816450834274"/>
      <axis xyz="1 0 0"/>
      <parent link="right_ring2_z"/>
      <child link="right_ring3"/>
      <dynamics damping="1.0" friction="0.0001"/>
      <limit effort="1000" velocity="200" lower="-0.45" upper="-0.01"/>
   </joint>
   <joint name="right_ring3_y" type="revolute">
      <origin xyz="0 0 0"/>
      <axis xyz="0 1 0"/>
      <parent link="right_ring3"/>
      <child link="right_ring3_y"/>
      <dynamics damping="1.0" friction="0.0001"/>
      <limit effort="1000" velocity="200" lower="-0.08" upper="0.33"/>
   </joint>
   <joint name="right_ring3_z" type="revolute">
      <origin xyz="0 0 0"/>
      <axis xyz="0 0 1"/>
      <parent link="right_ring3_y"/>
      <child link="right_ring3_z"/>
      <dynamics damping="1.0" friction="0.0001"/>
      <limit effort="1000" velocity="200" lower="-0.28" upper="0.77"/>
   </joint>
   <link name="right_ring_tip">
      <inertial>
         <origin rpy="0 0 0" xyz="0 0 0"/>
         <mass value="0"/>
         <inertia ixx="0" ixy="0" ixz="0" iyy="0" iyz="0" izz="0"/>
      </inertial>
   </link>
   <joint name="right_ring_tip" type="fixed">
      <origin xyz="-0.02443568781018257 0.003858924377709627 -0.007340483367443085"/>
      <axis xyz="0 0 0"/>
      <parent link="right_ring3_z"/>
      <child link="right_ring_tip"/>
   </joint>
   <link name="right_thumb_fixed">
      <inertial>
         <origin rpy="0 0 0" xyz="0 0 0"/>
         <mass value="0"/>
         <inertia ixx="0" ixy="0" ixz="0" iyy="0" iyz="0" izz="0"/>
      </inertial>
   </link>
   <joint name="right_thumb1_fixed" type="fixed">
      <origin xyz="0 0 0"/>
      <axis xyz="0 0 0"/>
      <parent link="right_wrist_rz"/>
      <child link="right_thumb_fixed"/>
   </joint>
   <link name="right_thumb1">
      <inertial>
         <origin rpy="1.235440583239785e-06 1.483652281919023e-06 2.229112816401557e-06" xyz="-0.005365142091468073 -0.002576591731301335 0.01297582060630504"/>
         <mass value="0.01389095525951898"/>
         <inertia ixx="1.284009306496808e-06" ixy="-1.454644559940222e-07" ixz="1.572922643450275e-07" iyy="1.807529504286183e-06" iyz="-3.475811205794311e-07" izz="1.856666870777373e-06"/>
      </inertial>
   </link>
   <link name="right_thumb1_y">
      <inertial>
         <origin rpy="0 0 0" xyz="0 0 0"/>
         <mass value="0"/>
         <inertia ixx="0" ixy="0" ixz="0" iyy="0" iyz="0" izz="0"/>
      </inertial>
   </link>
   <link name="right_thumb1_z">
      <inertial>
         <origin rpy="0 0 0" xyz="0 0 0"/>
         <mass value="0"/>
         <inertia ixx="0" ixy="0" ixz="0" iyy="0" iyz="0" izz="0"/>
      </inertial>
      <visual>
         <origin rpy="0 0 0" xyz="-0.07158022373914719 0.009138905443251133 -0.03199914842844009"/>
         <geometry>
            <mesh filename="./meshes/right_thumb1.stl" scale="1 1 1"/>
         </geometry>
         <material name="hand_color"/>
      </visual>
      <collision>
         <origin rpy="-0.03759002942324141 -0.6914858879290118 0.01354175456813378" xyz="-0.006628209725022316 0.0003008996718563139 0.008001001551747322"/>
         <material name="">
            <contact name="finger"/>
         </material>
         <geometry>
            <capsule length="0.02078843280673027" radius="0.01"/>
         </geometry>
      </collision>
   </link>
   <joint name="right_thumb1_x" type="revolute">
      <origin xyz="-0.02408971637487411 -0.01552233379334211 0.02581284381449223"/>
      <axis xyz="1 0 0"/>
      <parent link="right_thumb_fixed"/>
      <child link="right_thumb1"/>
      <dynamics damping="1.0" friction="0.0001"/>
      <limit effort="1000" velocity="200" lower="-1.9" upper="2.43"/>
   </joint>
   <joint name="right_thumb1_y" type="revolute">
      <origin xyz="0 0 0"/>
      <axis xyz="0 1 0"/>
      <parent link="right_thumb1"/>
      <child link="right_thumb1_y"/>
      <dynamics damping="1.0" friction="0.0001"/>
      <limit effort="1000" velocity="200" lower="-1.96" upper="2.03"/>
   </joint>
   <joint name="right_thumb1_z" type="revolute">
      <origin xyz="0 0 0"/>
      <axis xyz="0 0 1"/>
      <parent link="right_thumb1_y"/>
      <child link="right_thumb1_z"/>
      <dynamics damping="1.0" friction="0.0001"/>
      <limit effort="1000" velocity="200" lower="-1.94" upper="2.6"/>
   </joint>
   <link name="right_thumb2">
      <inertial>
         <origin rpy="4.315206340320142e-07 6.360198299791586e-07 6.783626977380903e-07" xyz="-0.01075580107062461 -0.002345119908563989 0.008481227041064993"/>
         <mass value="0.008175178965760945"/>
         <inertia ixx="4.497509026165561e-07" ixy="-3.182897992888485e-08" ixz="5.071783866382185e-08" iyy="6.380552594404862e-07" iyz="2.504411759822494e-08" izz="6.580969996922209e-07"/>
      </inertial>
   </link>
   <link name="right_thumb2_y">
      <inertial>
         <origin rpy="0 0 0" xyz="0 0 0"/>
         <mass value="0"/>
         <inertia ixx="0" ixy="0" ixz="0" iyy="0" iyz="0" izz="0"/>
      </inertial>
   </link>
   <link name="right_thumb2_z">
      <inertial>
         <origin rpy="0 0 0" xyz="0 0 0"/>
         <mass value="0"/>
         <inertia ixx="0" ixy="0" ixz="0" iyy="0" iyz="0" izz="0"/>
      </inertial>
      <visual>
         <origin rpy="0 0 0" xyz="-0.0519469790160656 0.008247618563473225 -0.0556987039744854"/>
         <geometry>
            <mesh filename="./meshes/right_thumb2.stl" scale="1 1 1"/>
         </geometry>
         <material name="hand_color"/>
      </visual>
      <collision>
         <origin rpy="0.3579510780566544 -0.9614433161852158 -0.1881438544702494" xyz="-0.007008775603026152 -0.00171387754380703 0.004581758752465248"/>
         <material name="">
            <contact name="finger"/>
         </material>
         <geometry>
            <capsule length="0.01709418907761574" radius="0.01"/>
         </geometry>
      </collision>
   </link>
   <joint name="right_thumb2_x" type="revolute">
      <origin xyz="-0.01963324472308159 0.0008912868797779083 0.0236995555460453"/>
      <axis xyz="1 0 0"/>
      <parent link="right_thumb1_z"/>
      <child link="right_thumb2"/>
      <dynamics damping="1.0" friction="0.0001"/>
      <limit effort="1000" velocity="200" lower="-1.56" upper="1.8"/>
   </joint>
   <joint name="right_thumb2_y" type="revolute">
      <origin xyz="0 0 0"/>
      <axis xyz="0 1 0"/>
      <parent link="right_thumb2"/>
      <child link="right_thumb2_y"/>
      <dynamics damping="1.0" friction="0.0001"/>
      <limit effort="1000" velocity="200" lower="-1.52" upper="1.8"/>
   </joint>
   <joint name="right_thumb2_z" type="revolute">
      <origin xyz="0 0 0"/>
      <axis xyz="0 0 1"/>
      <parent link="right_thumb2_y"/>
      <child link="right_thumb2_z"/>
      <dynamics damping="1.0" friction="0.0001"/>
      <limit effort="1000" velocity="200" lower="-1.52" upper="2.5"/>
   </joint>
   <link name="right_thumb3">
      <inertial>
         <origin rpy="3.135776419754762e-07 6.645022884507926e-07 6.959184274954174e-07" xyz="-0.01179746517184554 -0.002270360268563636 0.009189612105652695"/>
         <mass value="0.00747772344623321"/>
         <inertia ixx="4.504282205664598e-07" ixy="-4.038463243261303e-08" ixz="1.721710210247788e-07" iyy="6.644178756137688e-07" iyz="4.827619220538332e-08" izz="5.591522617414576e-07"/>
      </inertial>
   </link>
   <link name="right_thumb3_y">
      <inertial>
         <origin rpy="0 0 0" xyz="0 0 0"/>
         <mass value="0"/>
         <inertia ixx="0" ixy="0" ixz="0" iyy="0" iyz="0" izz="0"/>
      </inertial>
   </link>
   <link name="right_thumb3_z">
      <inertial>
         <origin rpy="0 0 0" xyz="0 0 0"/>
         <mass value="0"/>
         <inertia ixx="0" ixy="0" ixz="0" iyy="0" iyz="0" izz="0"/>
      </inertial>
      <visual>
         <origin rpy="0 0 0" xyz="-0.02972924336791039 0.01368059031665325 -0.07022282481193542"/>
         <geometry>
            <mesh filename="./meshes/right_thumb3.stl" scale="1 1 1"/>
         </geometry>
         <material name="hand_color"/>
      </visual>
      <collision>
         <origin rpy="0.3095359939145883 -0.9554413808442996 -0.1611940556331888" xyz="-0.01142392981416996 -0.002460023821868162 0.007691998220689819"/>
         <material name="">
            <contact name="finger"/>
         </material>
         <geometry>
            <capsule length="0.02798033067927078" radius="0.01"/>
         </geometry>
      </collision>
   </link>
   <joint name="right_thumb3_x" type="revolute">
      <origin xyz="-0.02221773564815521 -0.005432971753180027 0.01452412083745003"/>
      <axis xyz="1 0 0"/>
      <parent link="right_thumb2_z"/>
      <child link="right_thumb3"/>
      <dynamics damping="1.0" friction="0.0001"/>
      <limit effort="1000" velocity="200" lower="-1.32" upper="1.85"/>
   </joint>
   <joint name="right_thumb3_y" type="revolute">
      <origin xyz="0 0 0"/>
      <axis xyz="0 1 0"/>
      <parent link="right_thumb3"/>
      <child link="right_thumb3_y"/>
      <dynamics damping="1.0" friction="0.0001"/>
      <limit effort="1000" velocity="200" lower="-1.03" upper="1.2"/>
   </joint>
   <joint name="right_thumb3_z" type="revolute">
      <origin xyz="0 0 0"/>
      <axis xyz="0 0 1"/>
      <parent link="right_thumb3_y"/>
      <child link="right_thumb3_z"/>
      <dynamics damping="1.0" friction="0.0001"/>
      <limit effort="1000" velocity="200" lower="-0.86" upper="1.36"/>
   </joint>
   <link name="right_thumb_tip">
      <inertial>
         <origin rpy="0 0 0" xyz="0 0 0"/>
         <mass value="0"/>
         <inertia ixx="0" ixy="0" ixz="0" iyy="0" iyz="0" izz="0"/>
      </inertial>
   </link>
   <joint name="right_thumb_tip" type="fixed">
      <origin xyz="-0.02601354569196701 -0.002678442746400833 0.02388214319944382"/>
      <axis xyz="0 0 0"/>
      <parent link="right_thumb3_z"/>
      <child link="right_thumb_tip"/>
   </joint>
</robot>
